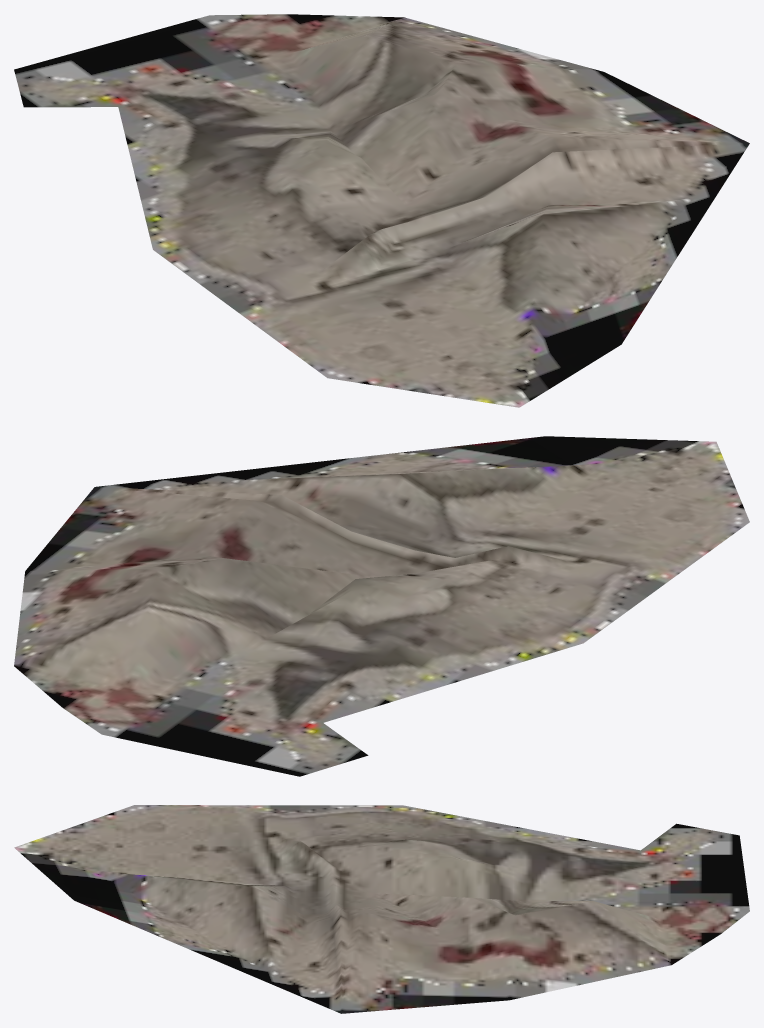
Rendered from bloody_rags_i.glb.
The picture shows the model from 3 angles, top to bottom: view 1: azimuth 30°, elevation 25°; view 2: azimuth 150°, elevation 25°; view 3: azimuth 270°, elevation 25°; orthographic projection. The views are drawn at different scales.
Parts seen in each view (by area): view 1: bloody_rags_i; view 2: bloody_rags_i; view 3: bloody_rags_i.
Boxes of the visible parts, x1=… form: bloody_rags_i: x1=14, y1=14, x2=749, y2=407; bloody_rags_i: x1=14, y1=436, x2=749, y2=776; bloody_rags_i: x1=14, y1=805, x2=749, y2=1013.
Size of the model in its own units: 0.8076 by 0.0571 by 1.2.
Materials: 1 (1 with a texture image).
